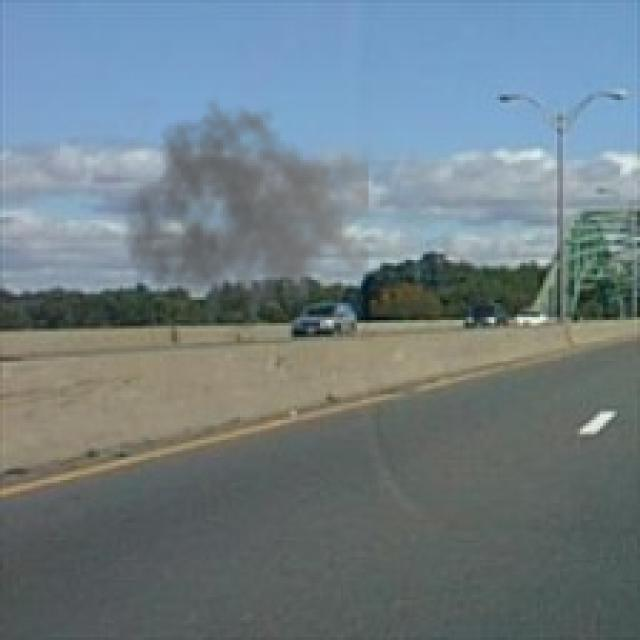Smoke: (122, 97, 368, 340)
